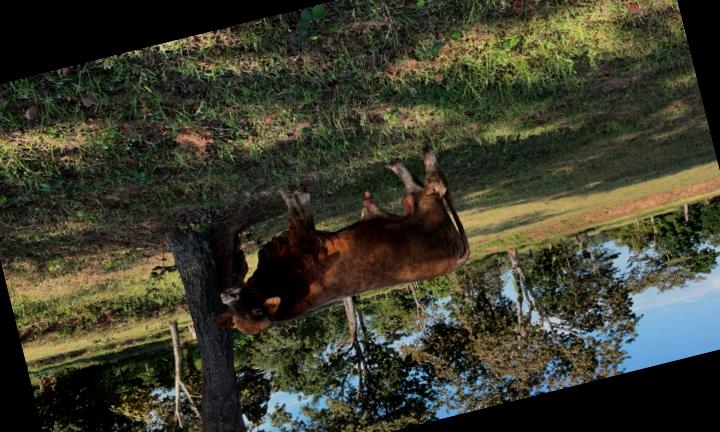Charolais: (211, 148, 470, 334)
